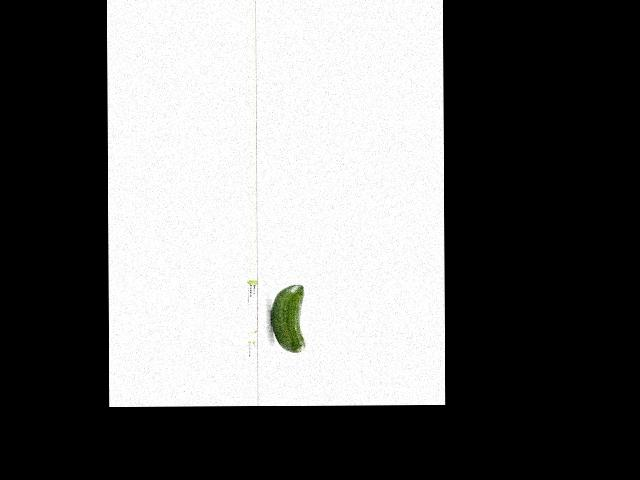cucumber: (270, 285, 304, 353)
